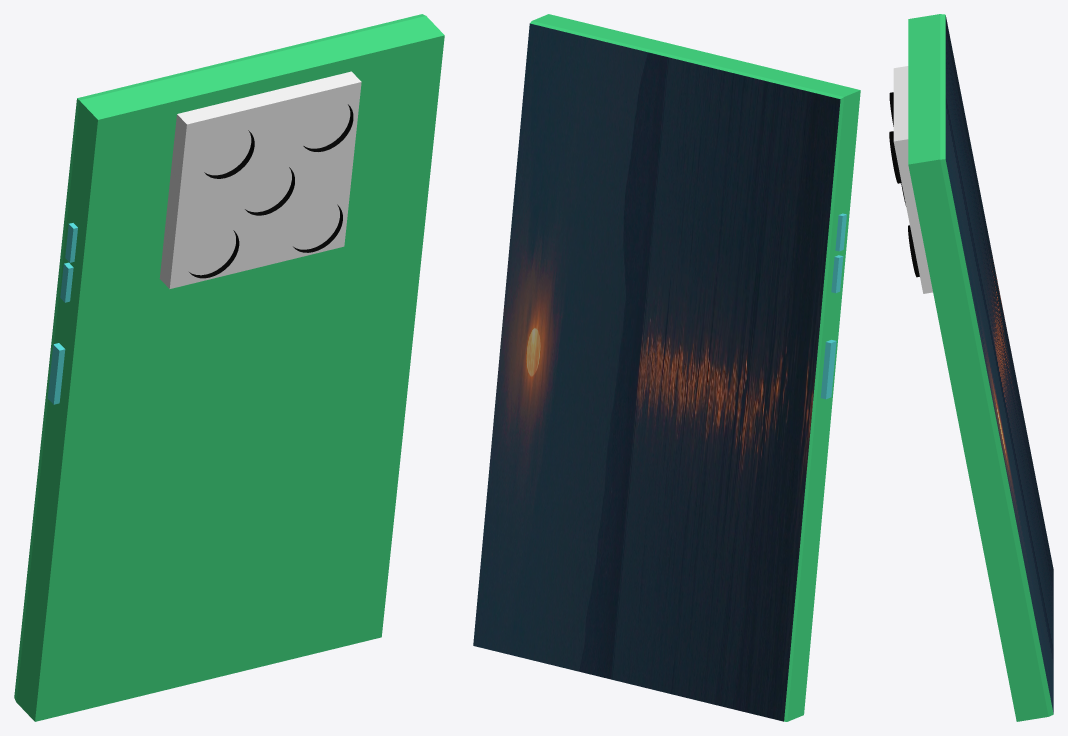
Rendered from phone.glb.
3 renders of one model, left to right at view 1: azimuth 30°, elevation 25°; view 2: azimuth 150°, elevation 25°; view 3: azimuth 270°, elevation 25°, orthographic. The views are drawn at different scales.
Parts seen in each view (by area): view 1: Cube.009, Cube.014, Cube.013; view 2: Screen.001, Cube.009, Cube.013; view 3: Cube.009, Screen.001, Cube.014.
Part boxes in pixels (x1,y1,x2,y2): Cube.009: [14, 14, 444, 721]; Cube.014: [159, 71, 361, 288]; Cube.013: [47, 343, 65, 404]; Screen.001: [473, 23, 840, 721]; Cube.009: [530, 14, 860, 721]; Cube.013: [820, 339, 836, 399]; Cube.009: [908, 14, 1053, 721]; Screen.001: [945, 15, 1053, 713]; Cube.014: [893, 66, 932, 293].
Size of the model in its own units: 4.08 by 7.24 by 1.92.
Materials: 5 (1 with a texture image).
